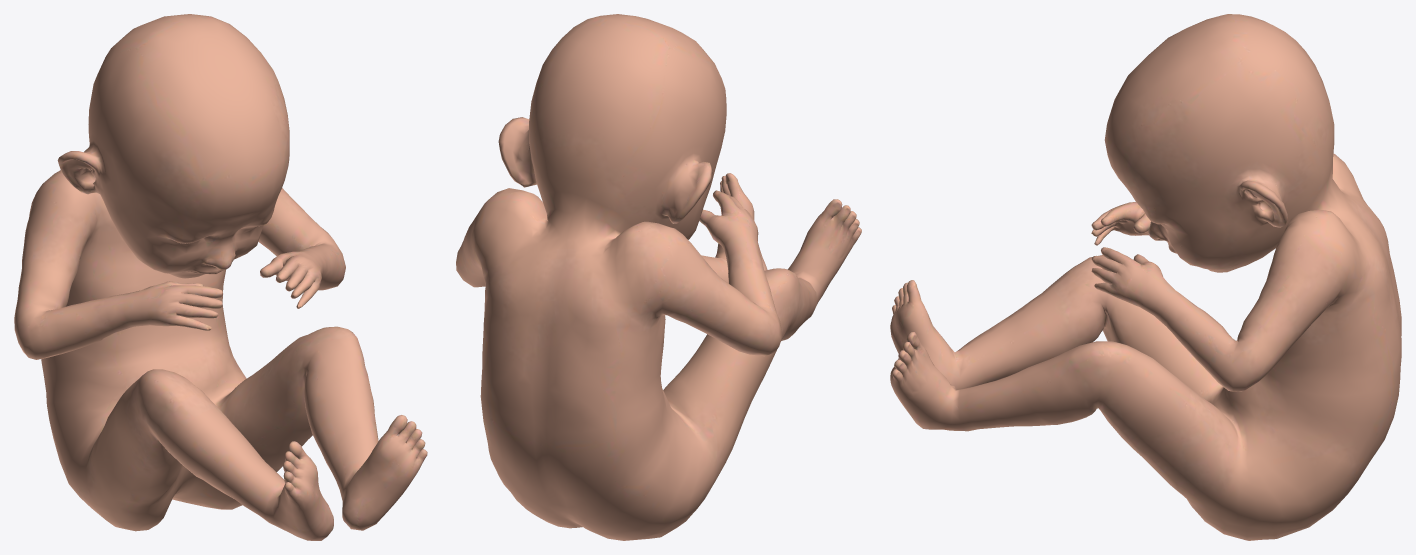
3 renders of one model, left to right at view 1: azimuth 30°, elevation 25°; view 2: azimuth 150°, elevation 25°; view 3: azimuth 270°, elevation 25°, orthographic.
Visible parts, largest first — view 1: Baby; view 2: Baby; view 3: Baby.
Boxes of the visible parts, bbox=[...] form: Baby: bbox=[14, 14, 427, 540]; Baby: bbox=[456, 14, 861, 540]; Baby: bbox=[890, 14, 1401, 540].
Bounding box in the file's own units: 0.2402 × 0.3576 × 0.3355.
Materials: 1 (1 with a texture image).
